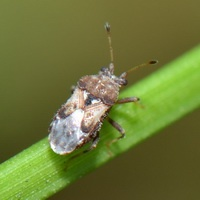insect: (48, 23, 156, 154)
